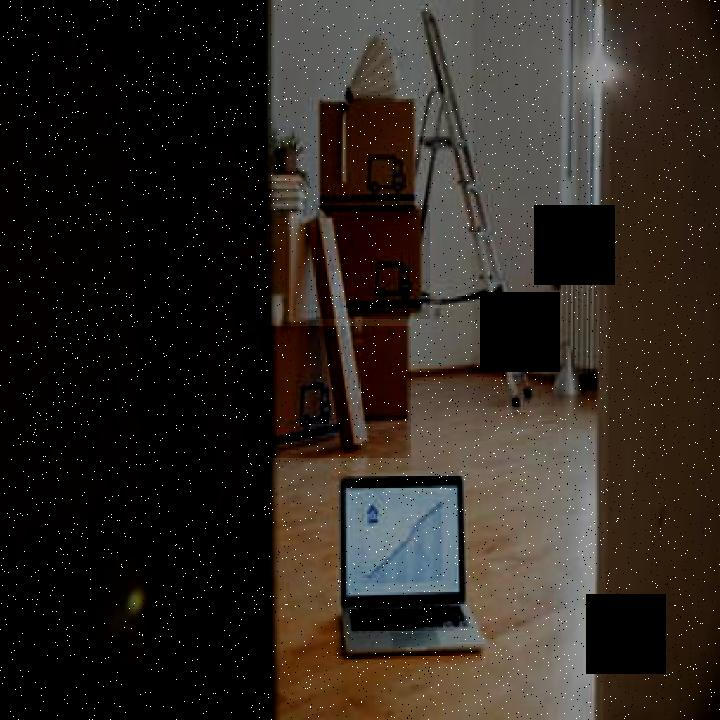box: (261, 326, 411, 458), (315, 82, 426, 209), (316, 205, 430, 319)
